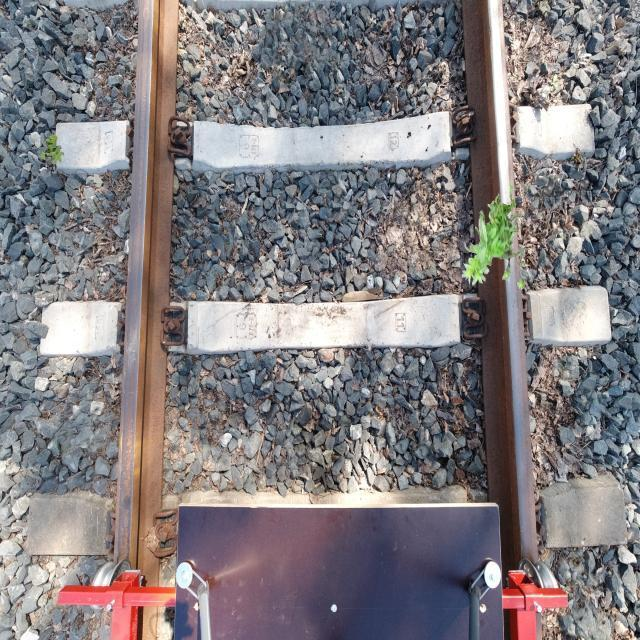Plant: (462, 184, 526, 292), (40, 134, 64, 164)
